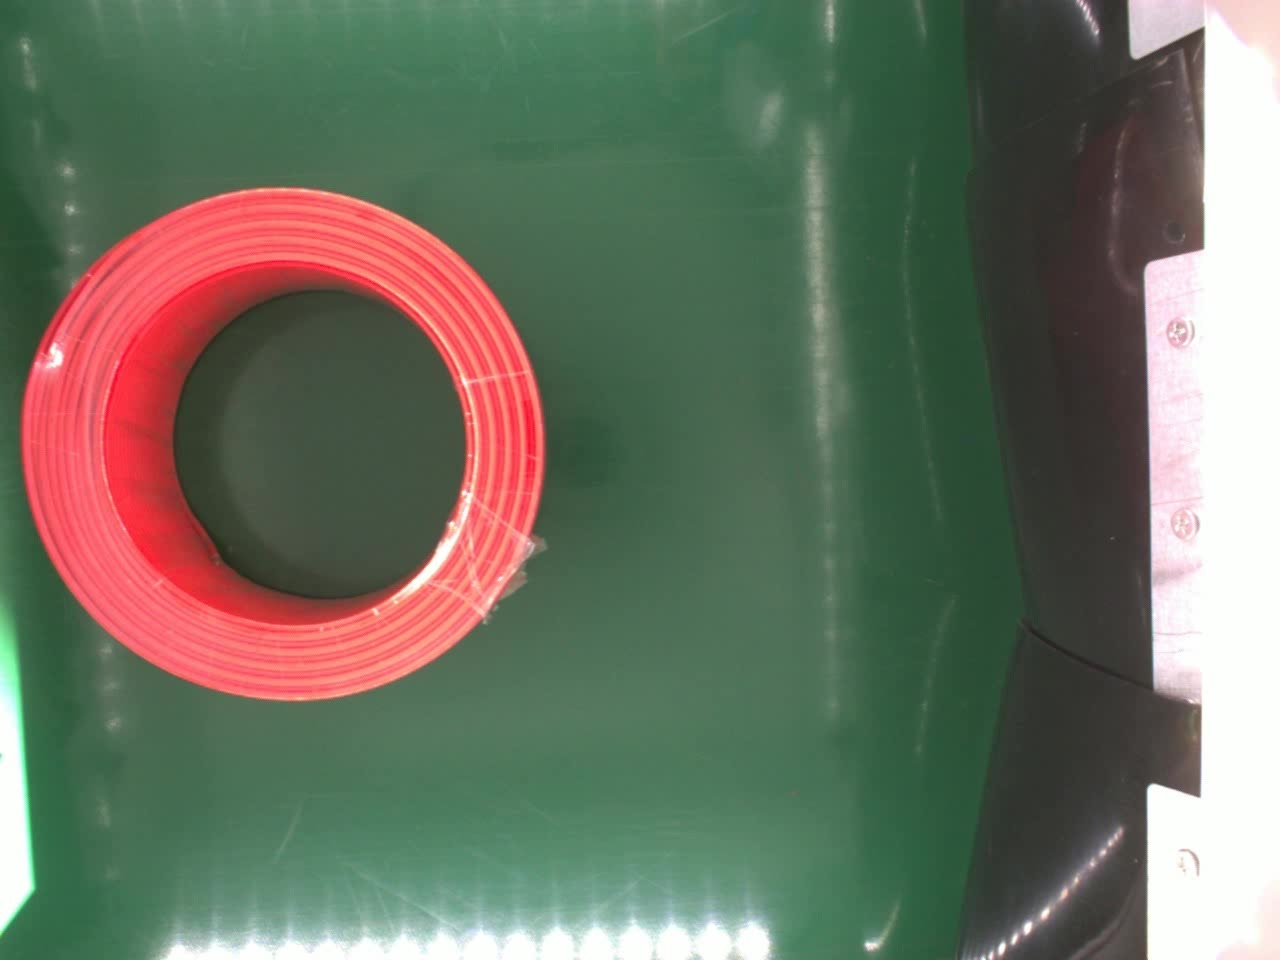red: (22, 185, 548, 700)
